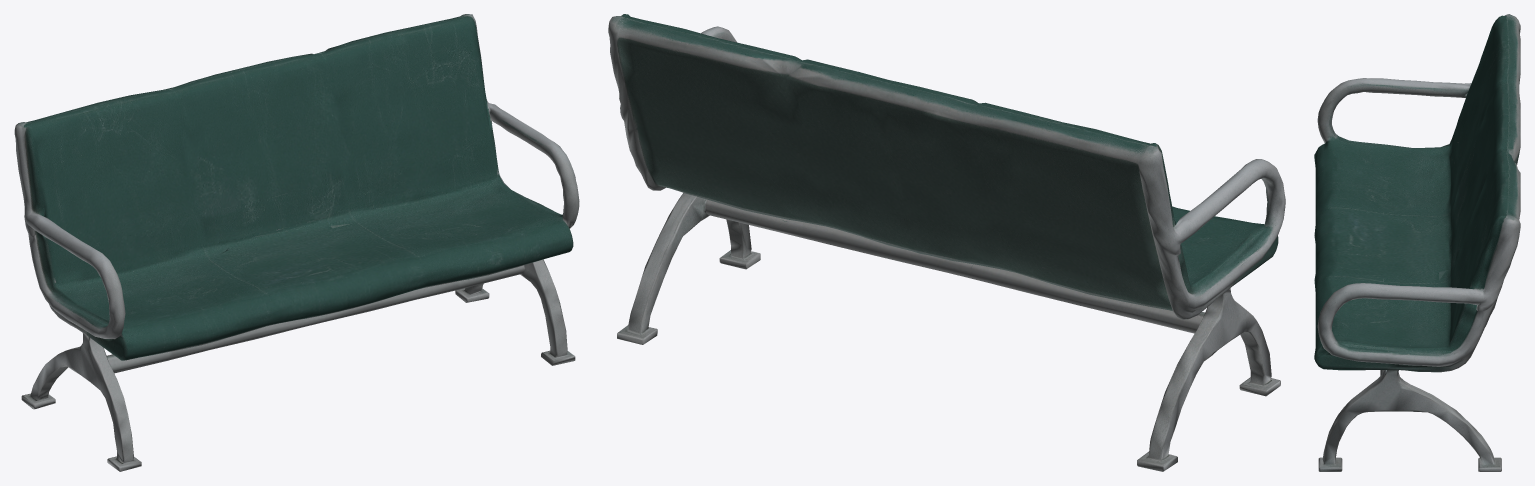
The model's file is WaitingBench.fbx.
3 renders of one model, left to right at view 1: azimuth 30°, elevation 25°; view 2: azimuth 150°, elevation 25°; view 3: azimuth 270°, elevation 25°, orthographic. The views are drawn at different scales.
Visible parts, largest first — view 1: mesh_node; view 2: mesh_node; view 3: mesh_node.
Part boxes in pixels (left/top/right/bottom): mesh_node: left=14, top=14, right=579, bottom=471; mesh_node: left=608, top=14, right=1285, bottom=471; mesh_node: left=1314, top=14, right=1520, bottom=471.
Size of the model in its own units: 191 by 106 by 78.28.
Materials: 1 (1 with a texture image).
